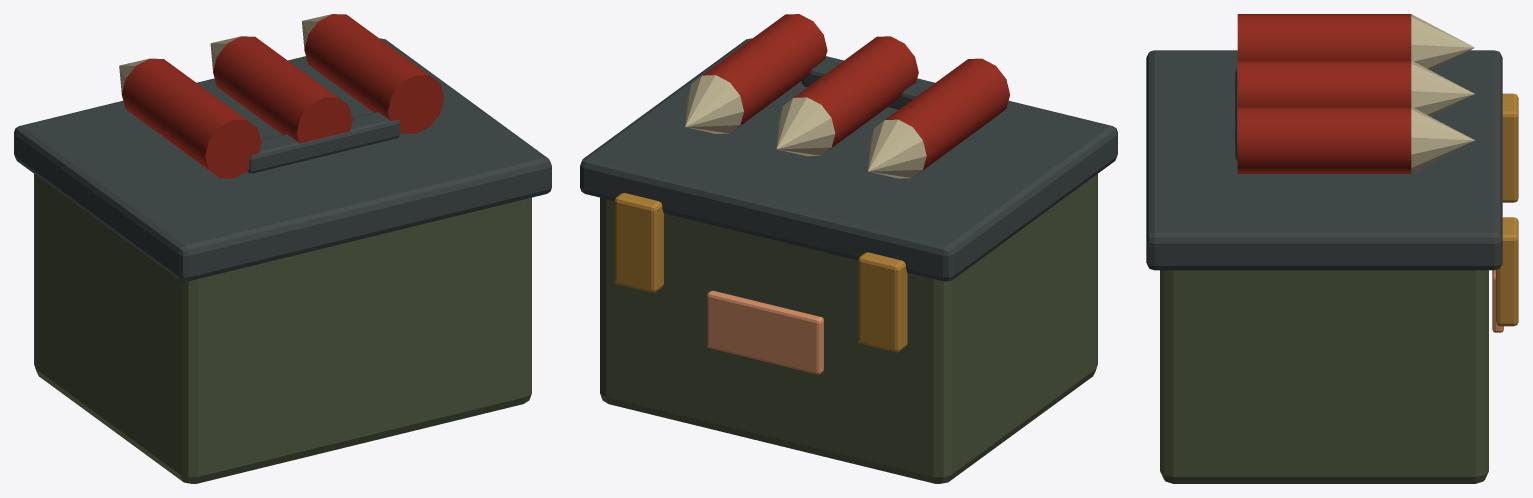
File: noir-ammo-shotgun.glb
3 views of the same model, side by side, from view 1: azimuth 30°, elevation 25°; view 2: azimuth 150°, elevation 25°; view 3: azimuth 270°, elevation 25° (orthographic). The views are drawn at different scales.
Visible parts, largest first — view 1: noir-ammo-shotgun mesh; view 2: noir-ammo-shotgun mesh; view 3: noir-ammo-shotgun mesh.
Part boxes in pixels (box(x1,y1,x2,y2)): noir-ammo-shotgun mesh: box(14, 14, 551, 483); noir-ammo-shotgun mesh: box(580, 14, 1117, 483); noir-ammo-shotgun mesh: box(1146, 14, 1518, 483).
Size of the model in its own units: 0.49 by 0.407 by 0.4075.
